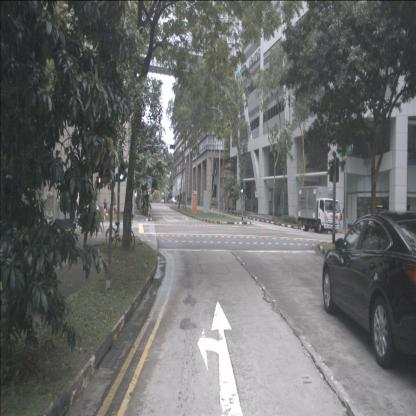cone: (112, 206, 115, 218)
